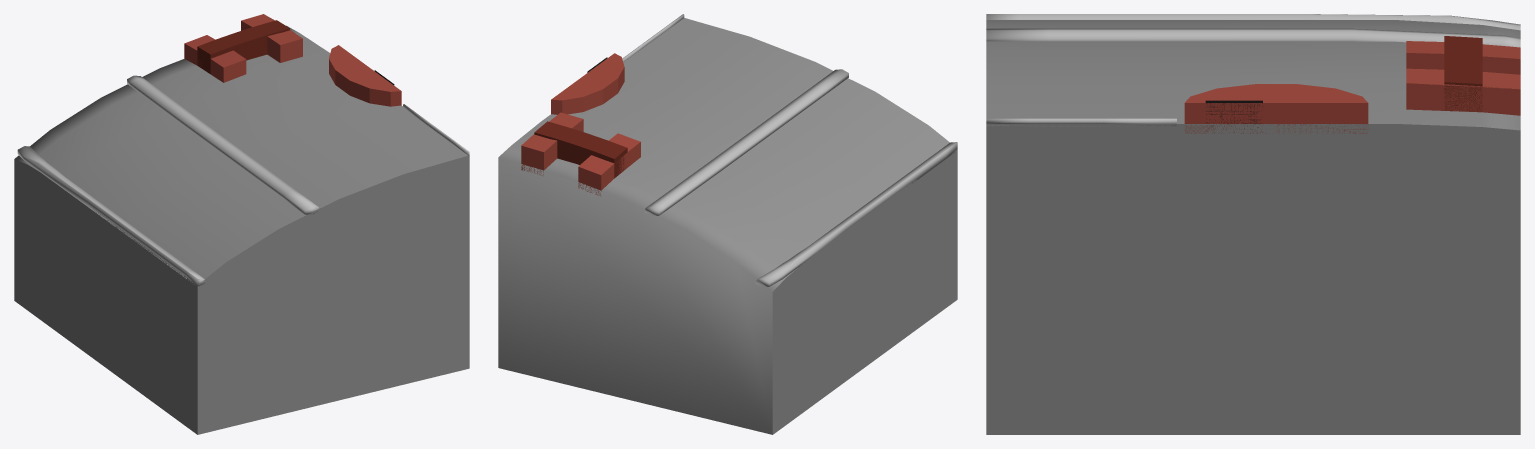
File: newshi-79.glb
3 renders of one model, left to right at view 1: azimuth 30°, elevation 25°; view 2: azimuth 150°, elevation 25°; view 3: azimuth 270°, elevation 25°, orthographic. The views are drawn at different scales.
Parts seen in each view (by area): view 1: newshi-79; view 2: newshi-79; view 3: newshi-79.
Part boxes in pixels (box(x1,y1,x2,y2)): newshi-79: box(14, 14, 469, 434); newshi-79: box(498, 14, 957, 434); newshi-79: box(986, 14, 1520, 434).
Bounding box in the file's own units: 2 × 1.62 × 2.33.
